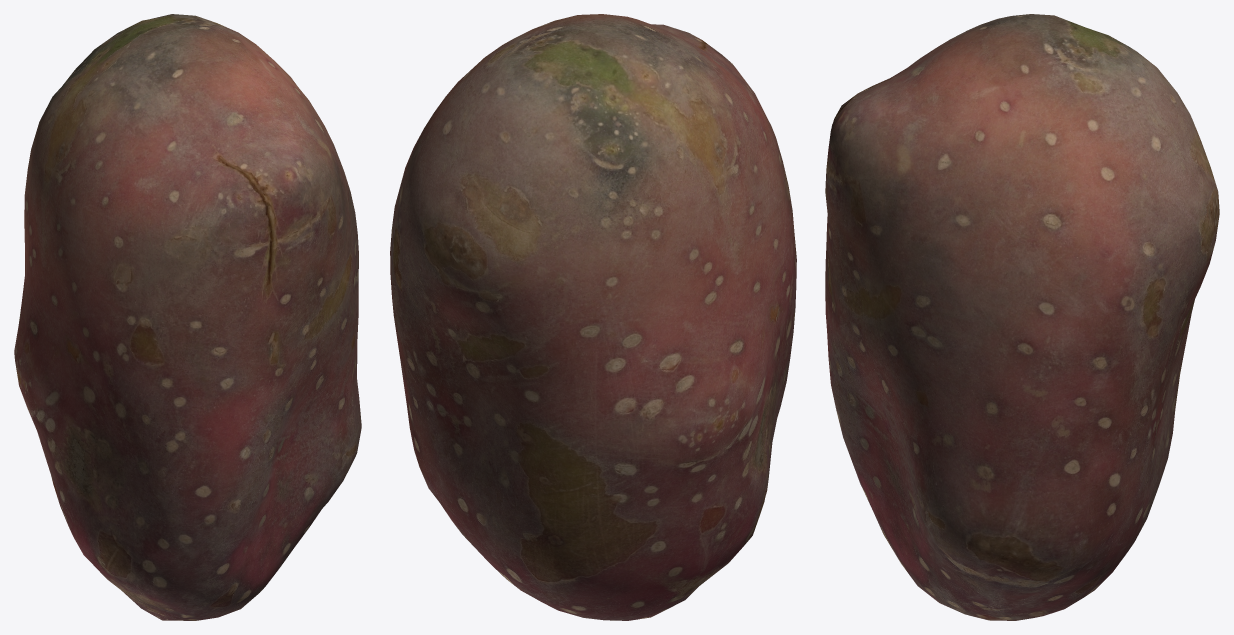
File: sweet_potato_1k.gltf
3 views of the same model, side by side, from view 1: azimuth 30°, elevation 25°; view 2: azimuth 150°, elevation 25°; view 3: azimuth 270°, elevation 25° (orthographic). The views are drawn at different scales.
Visible parts, largest first — view 1: sweet_potato; view 2: sweet_potato; view 3: sweet_potato.
Part boxes in pixels (box(x1,y1,x2,y2)): sweet_potato: box(14, 14, 361, 620); sweet_potato: box(390, 14, 796, 620); sweet_potato: box(825, 14, 1219, 620).
Size of the model in its own units: 0.0581 by 0.1005 by 0.061.
1 material, 1 textured.
